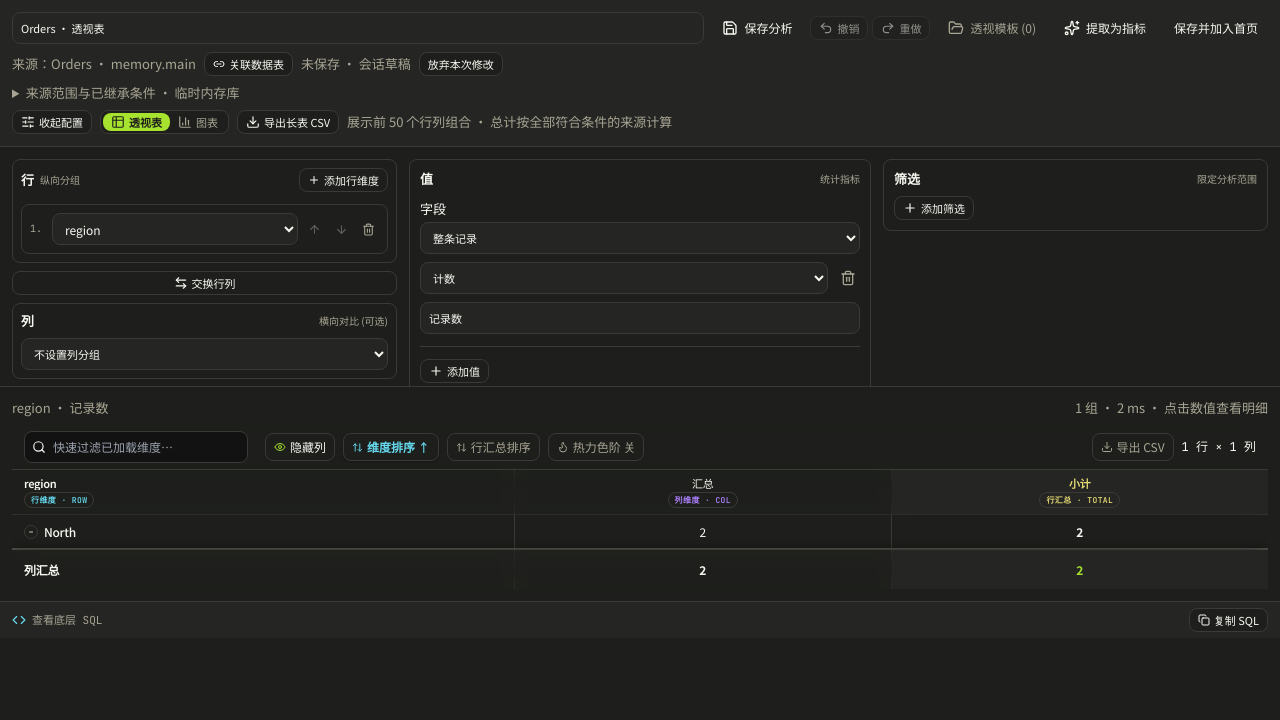
Test: pivot editor continuity › retries only publishing after the analysis has already saved
Check: the button "保存分析" is enabled, box [712,12,802,44]
Step 1. Click the button "保存并加入首页" → point(1216, 28), box [1164,12,1268,44]
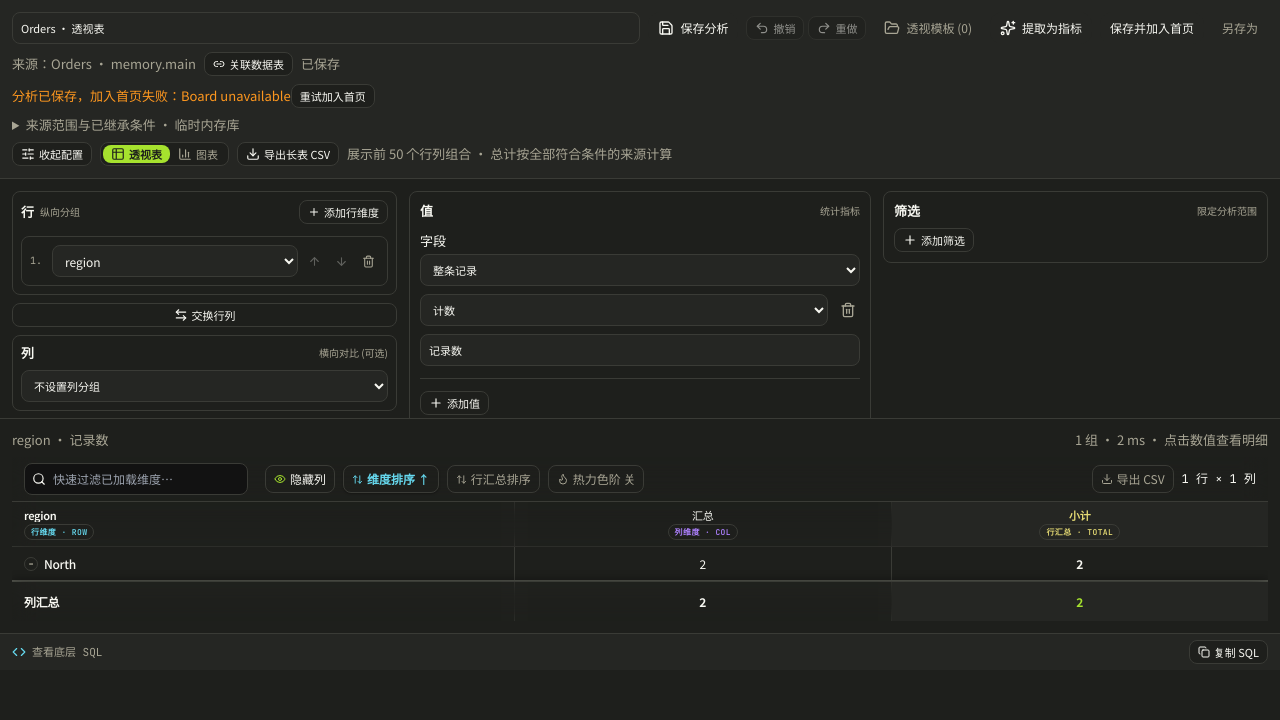
Check: the text "分析已保存，加入首页失败：Board unavailable 重试加入首页" is shown, box [12,84,375,108]
Step 2. Click the button "重试加入首页" → point(333, 96), box [291,84,375,108]
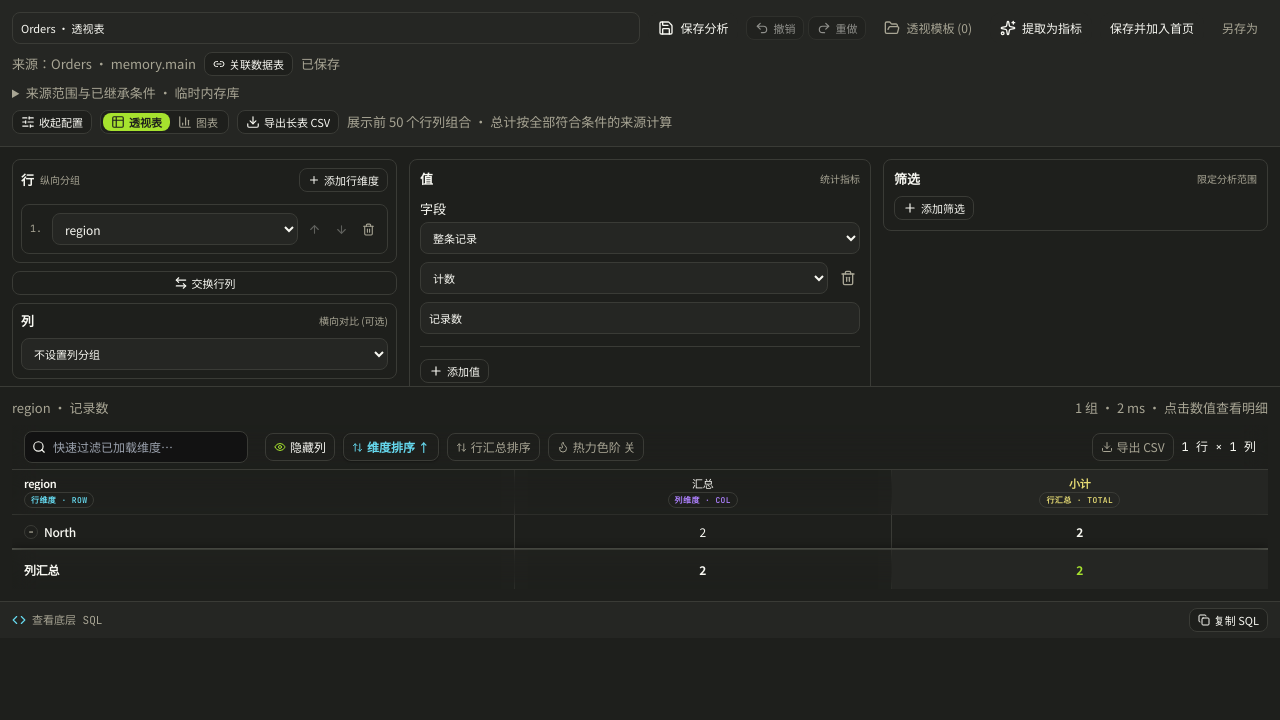
Check: the text "分析已保存，加入首页失败" is gone
